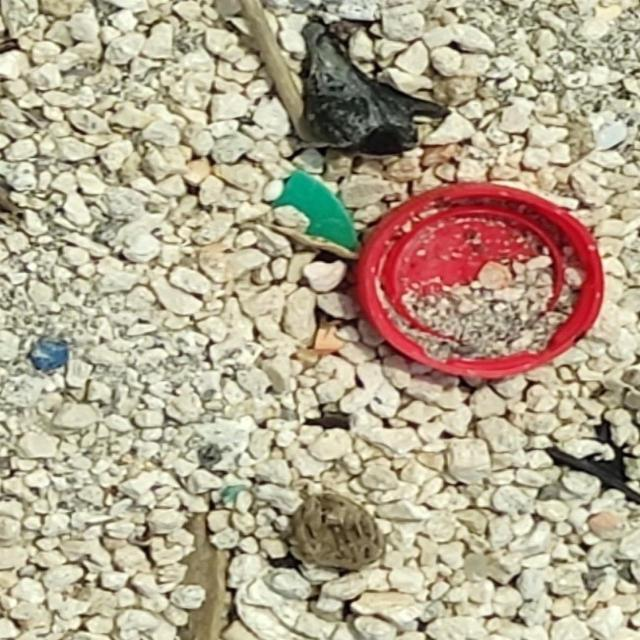plastic_waste: (359, 181, 605, 381)
